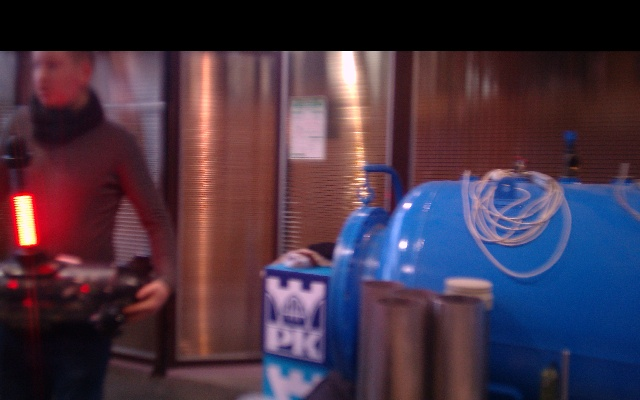red: (13, 194, 37, 248)
